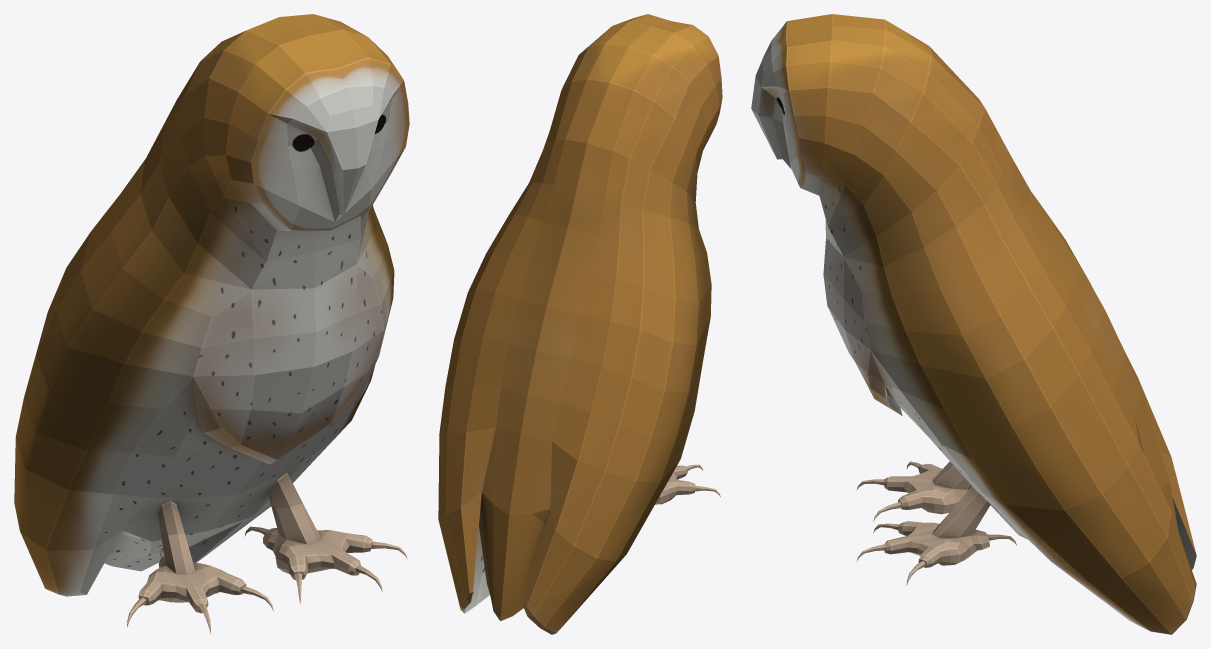
The picture shows the model from 3 angles, left to right: view 1: azimuth 30°, elevation 25°; view 2: azimuth 150°, elevation 25°; view 3: azimuth 270°, elevation 25°; orthographic projection. The views are drawn at different scales.
Visible parts, largest first — view 1: BarnOwl_mesh; view 2: BarnOwl_mesh; view 3: BarnOwl_mesh.
Part boxes in pixels (x1,y1,x2,y2): BarnOwl_mesh: (14,14,409,634); BarnOwl_mesh: (438,14,722,634); BarnOwl_mesh: (751,14,1196,634).
Size of the model in its own units: 4.98 by 10.4 by 7.2.
Materials: 1 (1 with a texture image).
